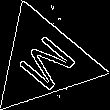M_SE: (9, 28, 79, 95)
